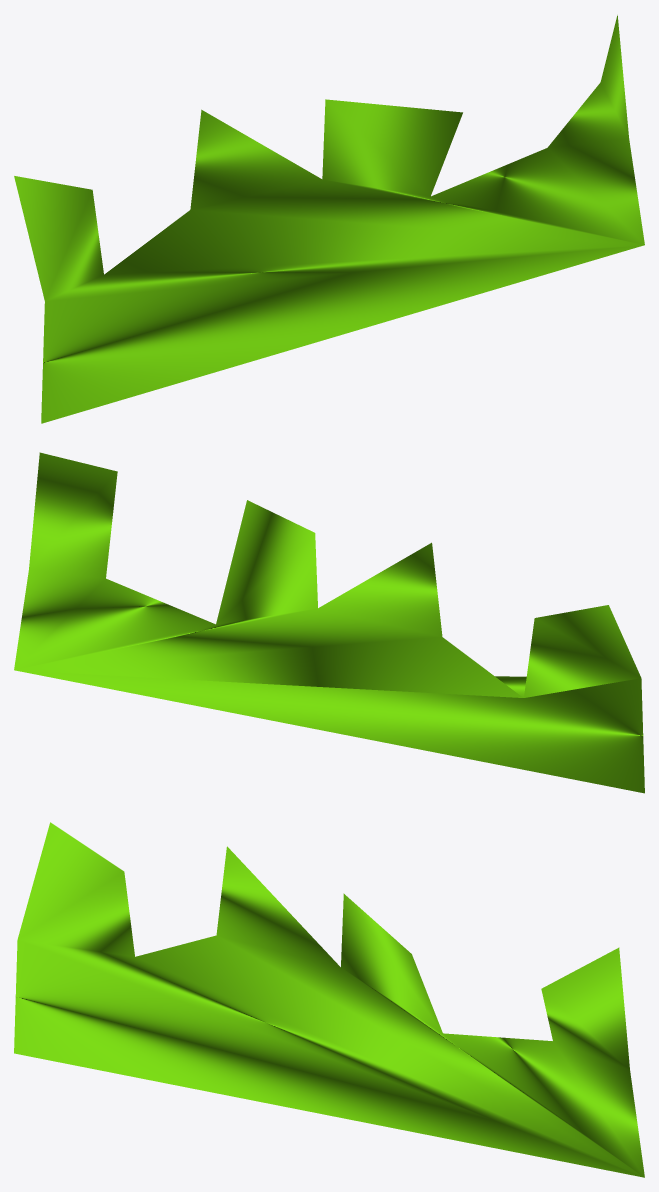
The model's file is gc_1_far.glb.
The picture shows the model from 3 angles, top to bottom: view 1: azimuth 30°, elevation 25°; view 2: azimuth 150°, elevation 25°; view 3: azimuth 330°, elevation 25°; orthographic projection. The views are drawn at different scales.
Visible parts, largest first — view 1: Curve_Material.001_0; view 2: Curve_Material.001_0; view 3: Curve_Material.001_0.
Boxes of the visible parts, <box> form: Curve_Material.001_0: <box>14,15,644,423</box>; Curve_Material.001_0: <box>14,452,644,793</box>; Curve_Material.001_0: <box>14,822,644,1177</box>.
Bounding box in the file's own units: 2.06 × 0.7536 × 0.1838.
